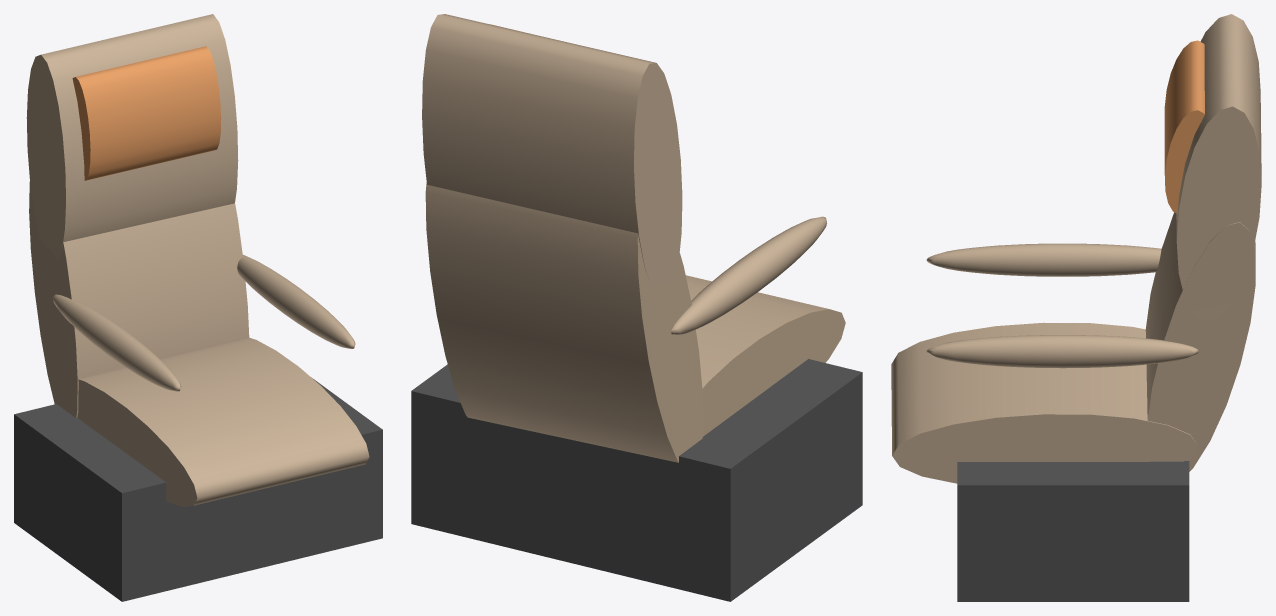
The model's file is Vliegtuigstoel.fbx.
3 views of the same model, side by side, from view 1: azimuth 30°, elevation 25°; view 2: azimuth 150°, elevation 25°; view 3: azimuth 270°, elevation 25° (orthographic). The views are drawn at different scales.
Visible parts, largest first — view 1: pasted__pCylinder1 (×2), pCube1, pCylinder1, pCylinder2, pSphere1, pasted__pSphere1; view 2: pasted__pCylinder1 (×2), pCube1, pCylinder1, pSphere1; view 3: pCube1, pasted__pCylinder1 (×2), pCylinder1, pasted__pSphere1, pSphere1, pCylinder2.
Part boxes in pixels (x1,y1,x2,y2): pasted__pCylinder1 (×2): (26,14,249,418); pCube1: (14,377,382,601); pCylinder1: (77,337,369,506); pCylinder2: (72,46,221,180); pSphere1: (53,294,181,391); pasted__pSphere1: (237,255,355,348); pasted__pCylinder1 (×2): (422,14,703,462); pCube1: (411,359,862,601); pCylinder1: (685,275,845,436); pSphere1: (671,216,826,335); pCube1: (957,461,1189,601); pasted__pCylinder1 (×2): (1145,14,1261,471); pCylinder1: (891,322,1198,483); pasted__pSphere1: (926,335,1198,368); pSphere1: (926,243,1161,276); pCylinder2: (1164,40,1204,213).
Bounding box in the file's own units: 4.95 × 8.02 × 5.66.
